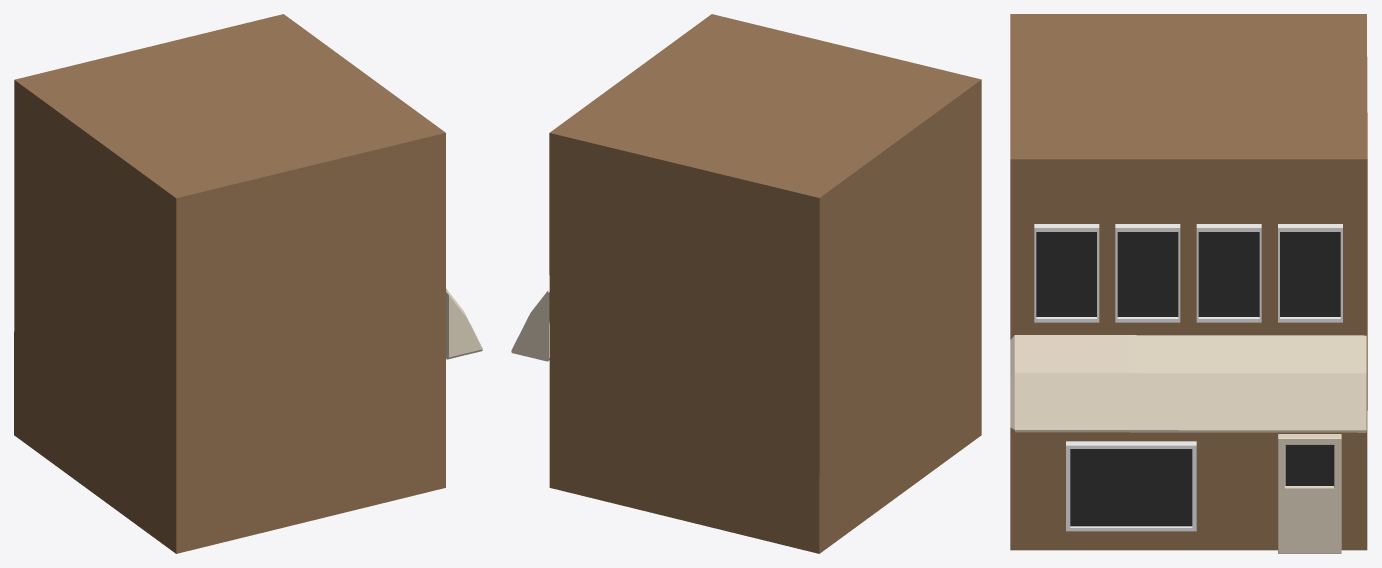
3 renders of one model, left to right at view 1: azimuth 30°, elevation 25°; view 2: azimuth 150°, elevation 25°; view 3: azimuth 270°, elevation 25°, orthographic. The views are drawn at different scales.
Parts seen in each view (by area): view 1: BusinessBuildings.034; view 2: BusinessBuildings.034; view 3: BusinessBuildings.034.
Part boxes in pixels (left/top/right/bottom): BusinessBuildings.034: left=14, top=14, right=482, bottom=553; BusinessBuildings.034: left=511, top=14, right=981, bottom=553; BusinessBuildings.034: left=1010, top=14, right=1367, bottom=553.
Size of the model in its own units: 90.92 by 100 by 82.82.
